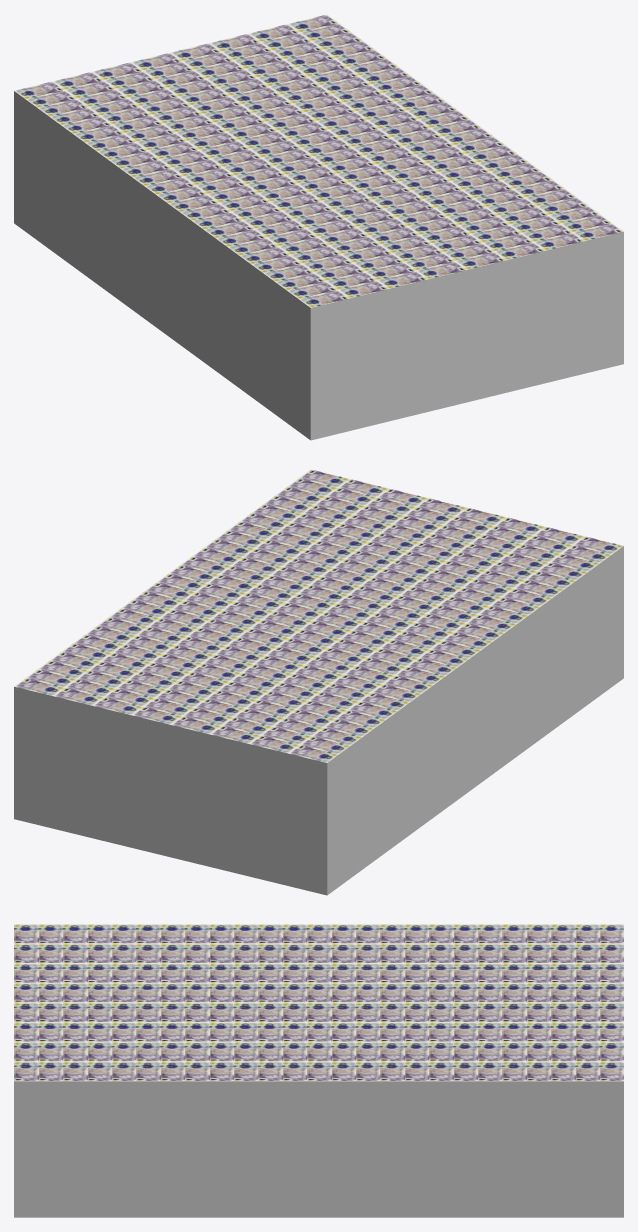
File: 7 Ten Million Pounds.glb
3 renders of one model, top to bottom at view 1: azimuth 30°, elevation 25°; view 2: azimuth 150°, elevation 25°; view 3: azimuth 270°, elevation 25°, orthographic. The views are drawn at different scales.
Parts seen in each view (by area): view 1: 7 Ten Million Pounds; view 2: 7 Ten Million Pounds; view 3: 7 Ten Million Pounds.
Boxes of the visible parts, <box> form: 7 Ten Million Pounds: <box>14,14,623,440</box>; 7 Ten Million Pounds: <box>14,469,623,895</box>; 7 Ten Million Pounds: <box>14,924,623,1217</box>.
Bounding box in the file's own units: 1.11 × 0.4495 × 1.83.
Materials: 2 (1 with a texture image).
